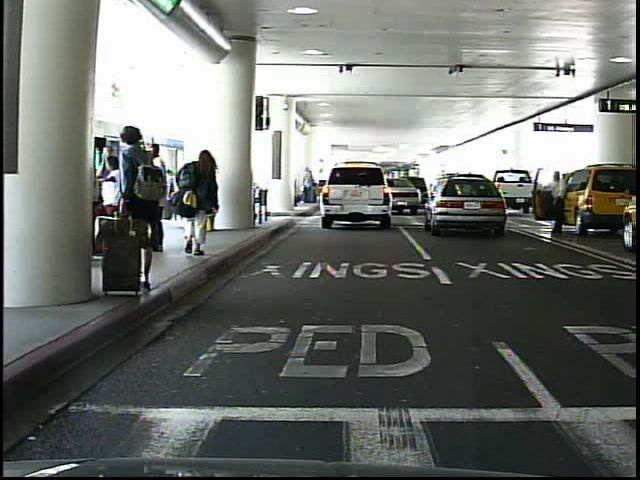person: (104, 119, 157, 292), (182, 146, 223, 263), (142, 143, 174, 261), (171, 158, 199, 233), (545, 174, 568, 236)
